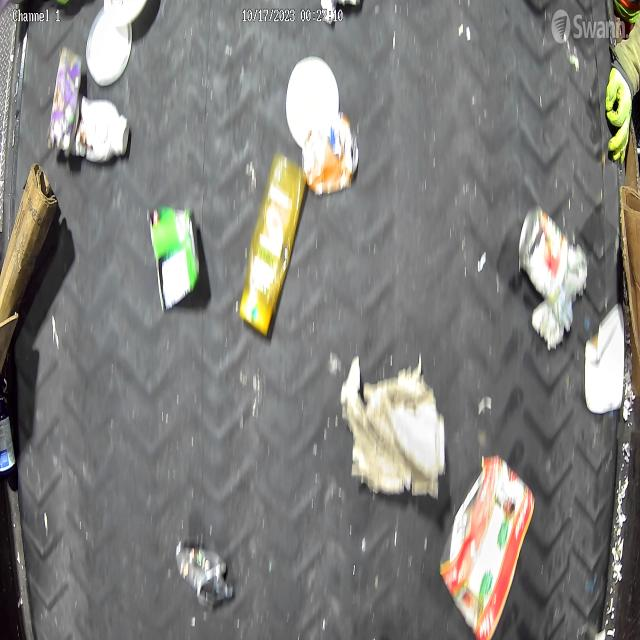can: (438, 451, 536, 640), (519, 206, 564, 295)
